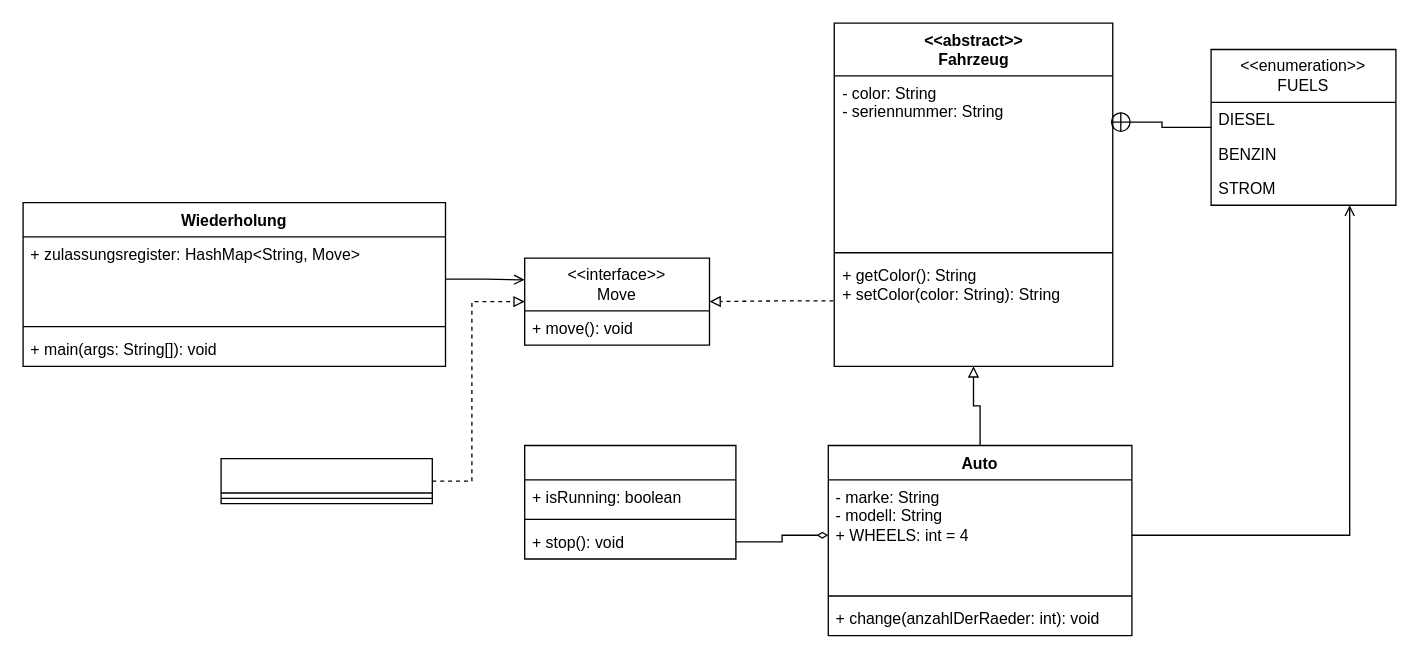
Some shapes in this 1419 by 663 pixel diagram are drawn without their labels. Here are the shapes that lost their labels. From the top down, the box of each, then its label:
(220, 457, 432, 504): Flugzeug
(523, 444, 736, 559): Engine
